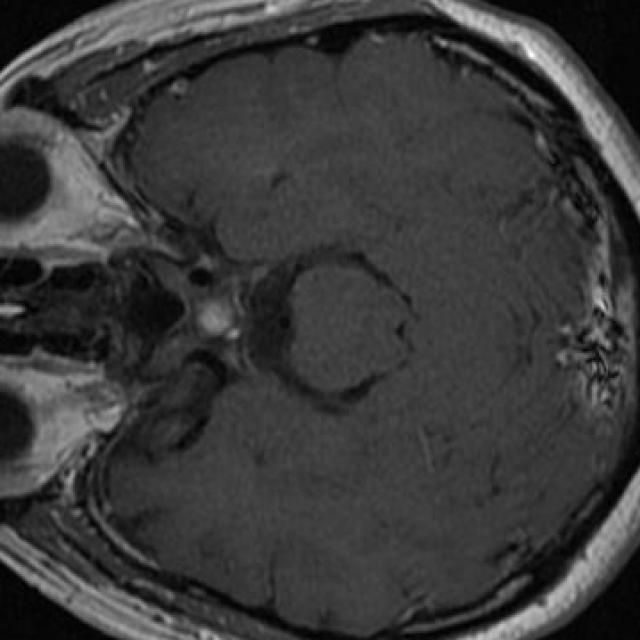pituitary: (193, 299, 235, 337)
